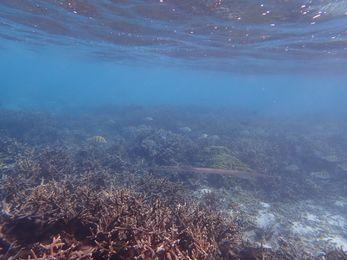Fistularia commersonii: (137, 149, 294, 195)
